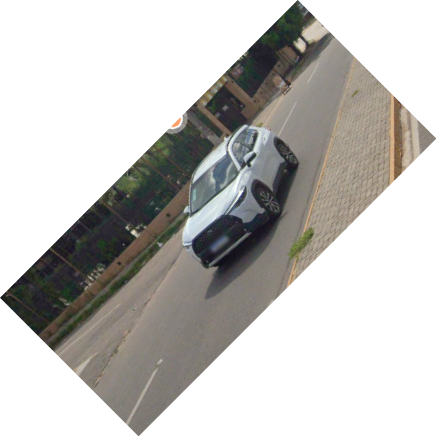car: (181, 123, 302, 276)
